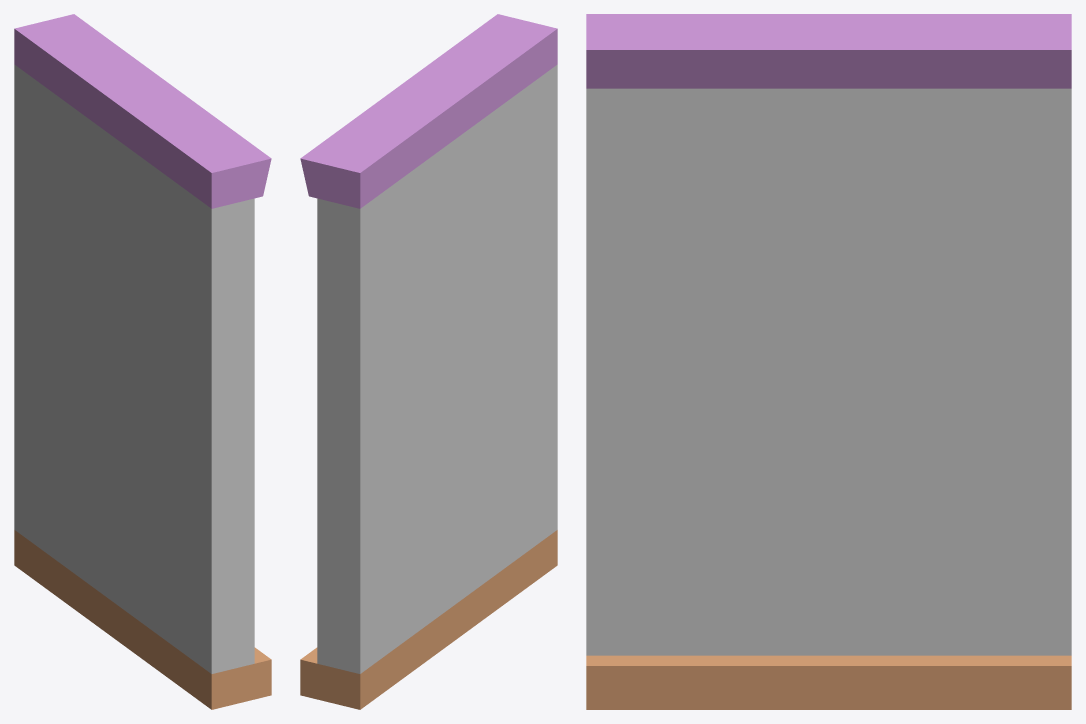
File: Wall.glb
3 views of the same model, side by side, from view 1: azimuth 30°, elevation 25°; view 2: azimuth 150°, elevation 25°; view 3: azimuth 270°, elevation 25° (orthographic). The views are drawn at different scales.
Visible parts, largest first — view 1: wall; view 2: wall; view 3: wall.
Part boxes in pixels (<box>): wall: <box>14,14,271,709</box>; wall: <box>300,14,557,709</box>; wall: <box>586,14,1071,709</box>.
Bounding box in the file's own units: 0.35 × 3 × 2.
